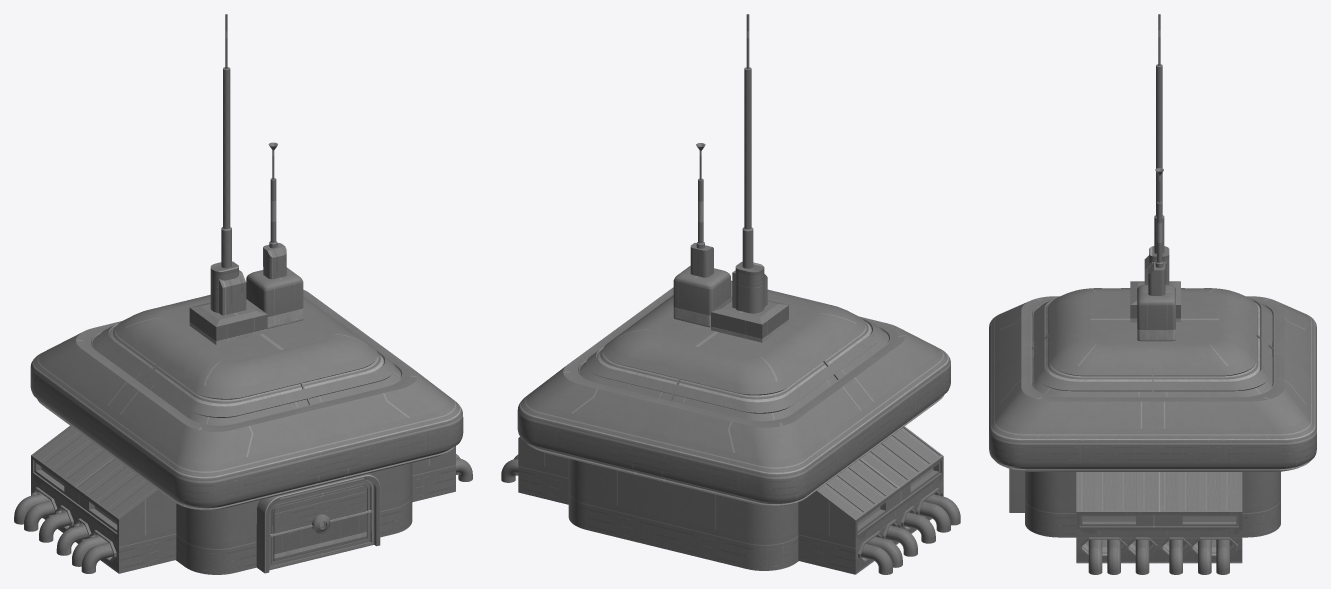
Rendered from SM_house_small.glb.
3 renders of one model, left to right at view 1: azimuth 30°, elevation 25°; view 2: azimuth 150°, elevation 25°; view 3: azimuth 270°, elevation 25°, orthographic. The views are drawn at different scales.
Visible parts, largest first — view 1: SM_house_small; view 2: SM_house_small; view 3: SM_house_small.
Part boxes in pixels (left/top/right/bottom): SM_house_small: left=14, top=14, right=472, bottom=574; SM_house_small: left=501, top=14, right=960, bottom=574; SM_house_small: left=989, top=14, right=1316, bottom=574.
Bounding box in the file's own units: 20.47 × 24.68 × 15.81.
1 material, 1 textured.
